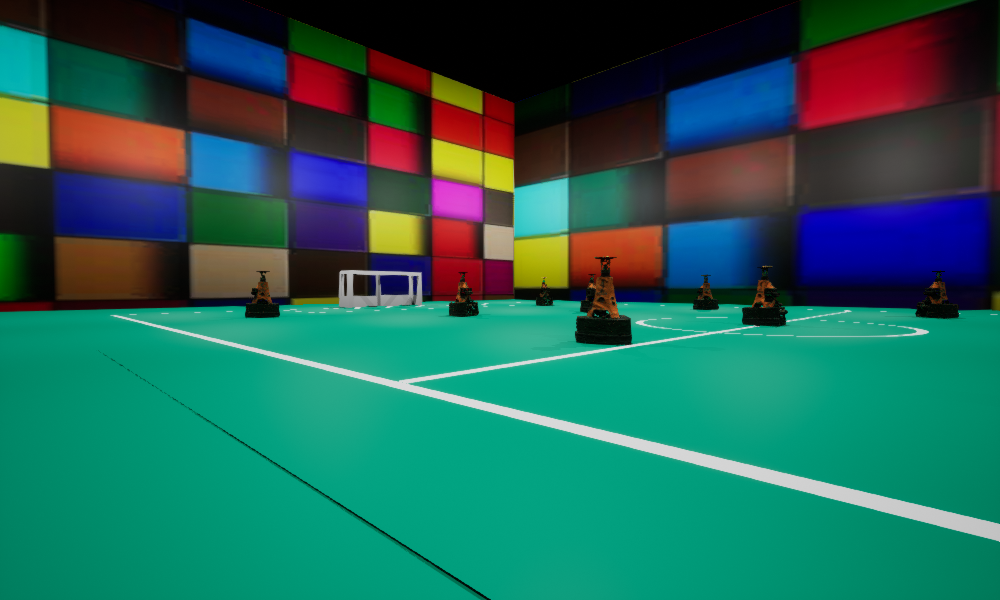o: (575, 256, 631, 344), (742, 266, 787, 326), (915, 270, 958, 317), (245, 271, 279, 317), (449, 272, 478, 316), (580, 274, 604, 312), (693, 275, 718, 309), (536, 277, 552, 305)
